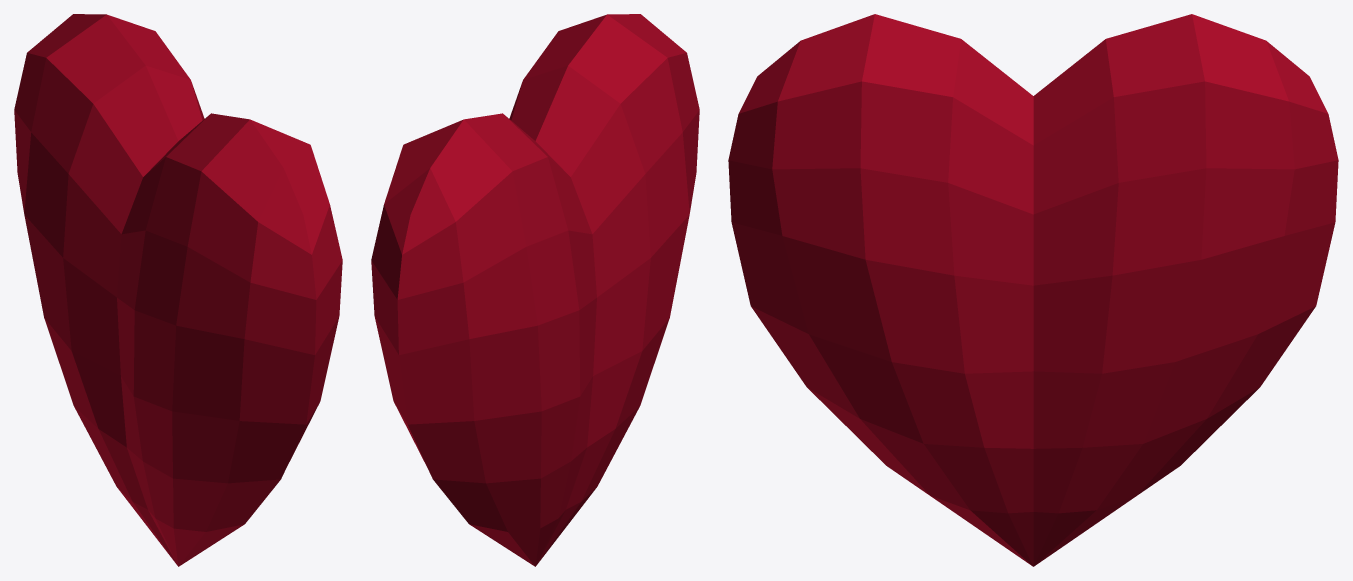
Rendered from Heart.fbx.
3 renders of one model, left to right at view 1: azimuth 30°, elevation 25°; view 2: azimuth 150°, elevation 25°; view 3: azimuth 270°, elevation 25°, orthographic. The views are drawn at different scales.
Parts seen in each view (by area): view 1: Heart; view 2: Heart; view 3: Heart.
Part boxes in pixels (bbox=[...]): Heart: bbox=[14, 14, 342, 566]; Heart: bbox=[371, 14, 699, 566]; Heart: bbox=[728, 14, 1338, 566].
Size of the model in its own units: 16.67 by 50.03 by 50.03.
